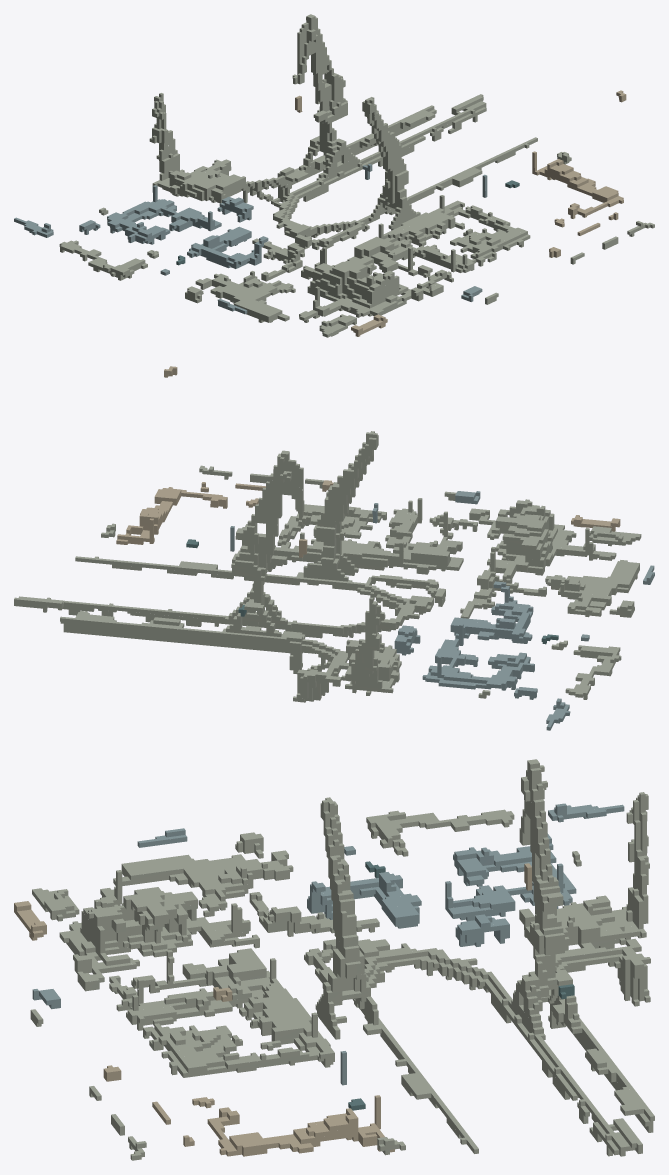
The picture shows the model from 3 angles, top to bottom: view 1: azimuth 30°, elevation 25°; view 2: azimuth 150°, elevation 25°; view 3: azimuth 270°, elevation 25°; orthographic projection. The views are drawn at different scales.
Visible parts, largest first — view 1: measured-industrial; view 2: measured-industrial; view 3: measured-industrial.
Boxes of the visible parts, <box> form: measured-industrial: <box>14,14,654,337</box>; measured-industrial: <box>14,366,654,730</box>; measured-industrial: <box>14,759,654,1160</box>.
Size of the model in its own units: 246 by 91.55 by 191.
